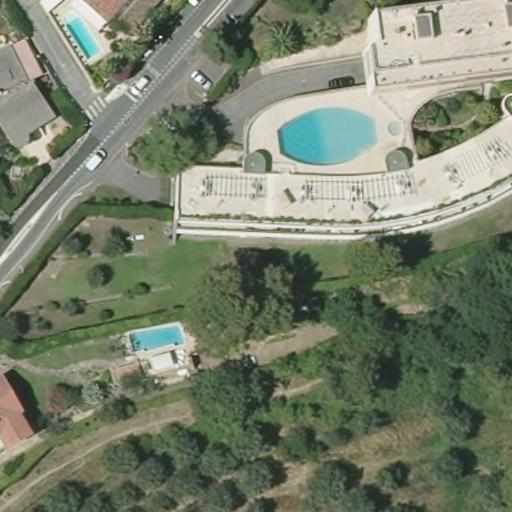pool: (276, 97, 408, 170), (49, 4, 112, 66), (122, 325, 187, 354)
